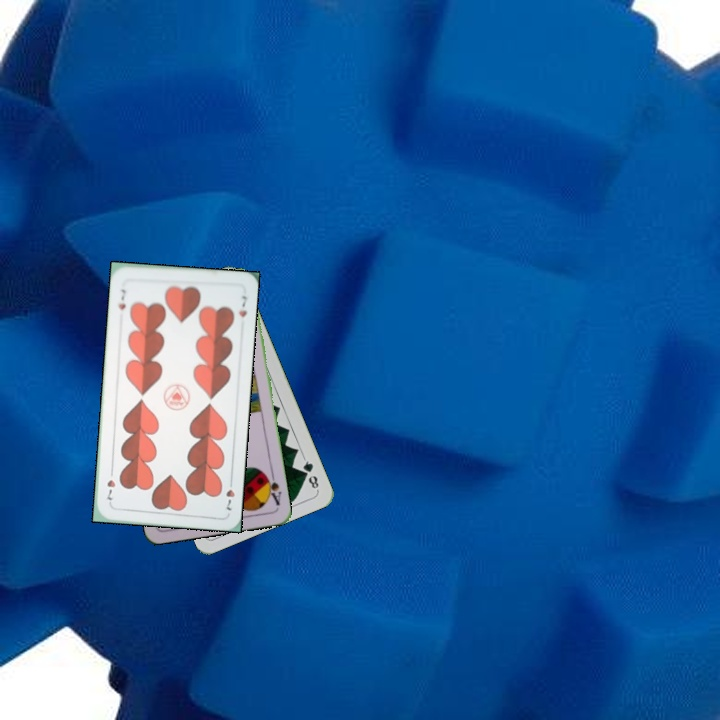G8: (299, 454, 321, 493)
H7: (220, 474, 237, 513), (114, 285, 128, 312)
SA: (261, 469, 284, 508)
